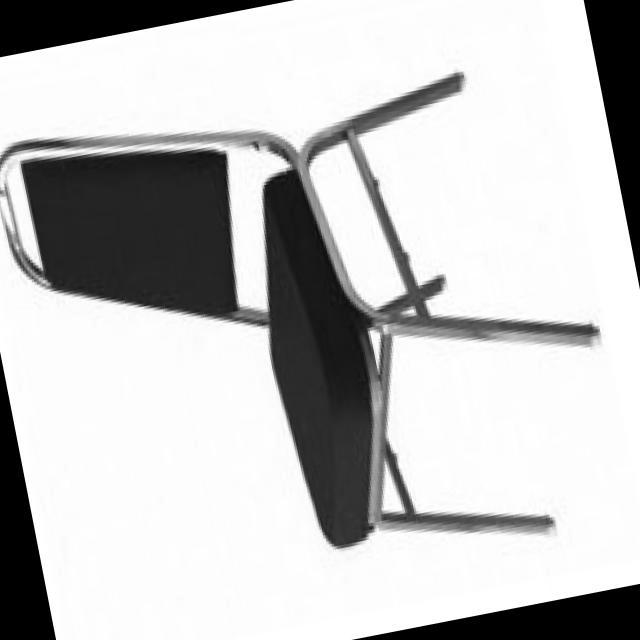chair: (0, 38, 635, 627)
